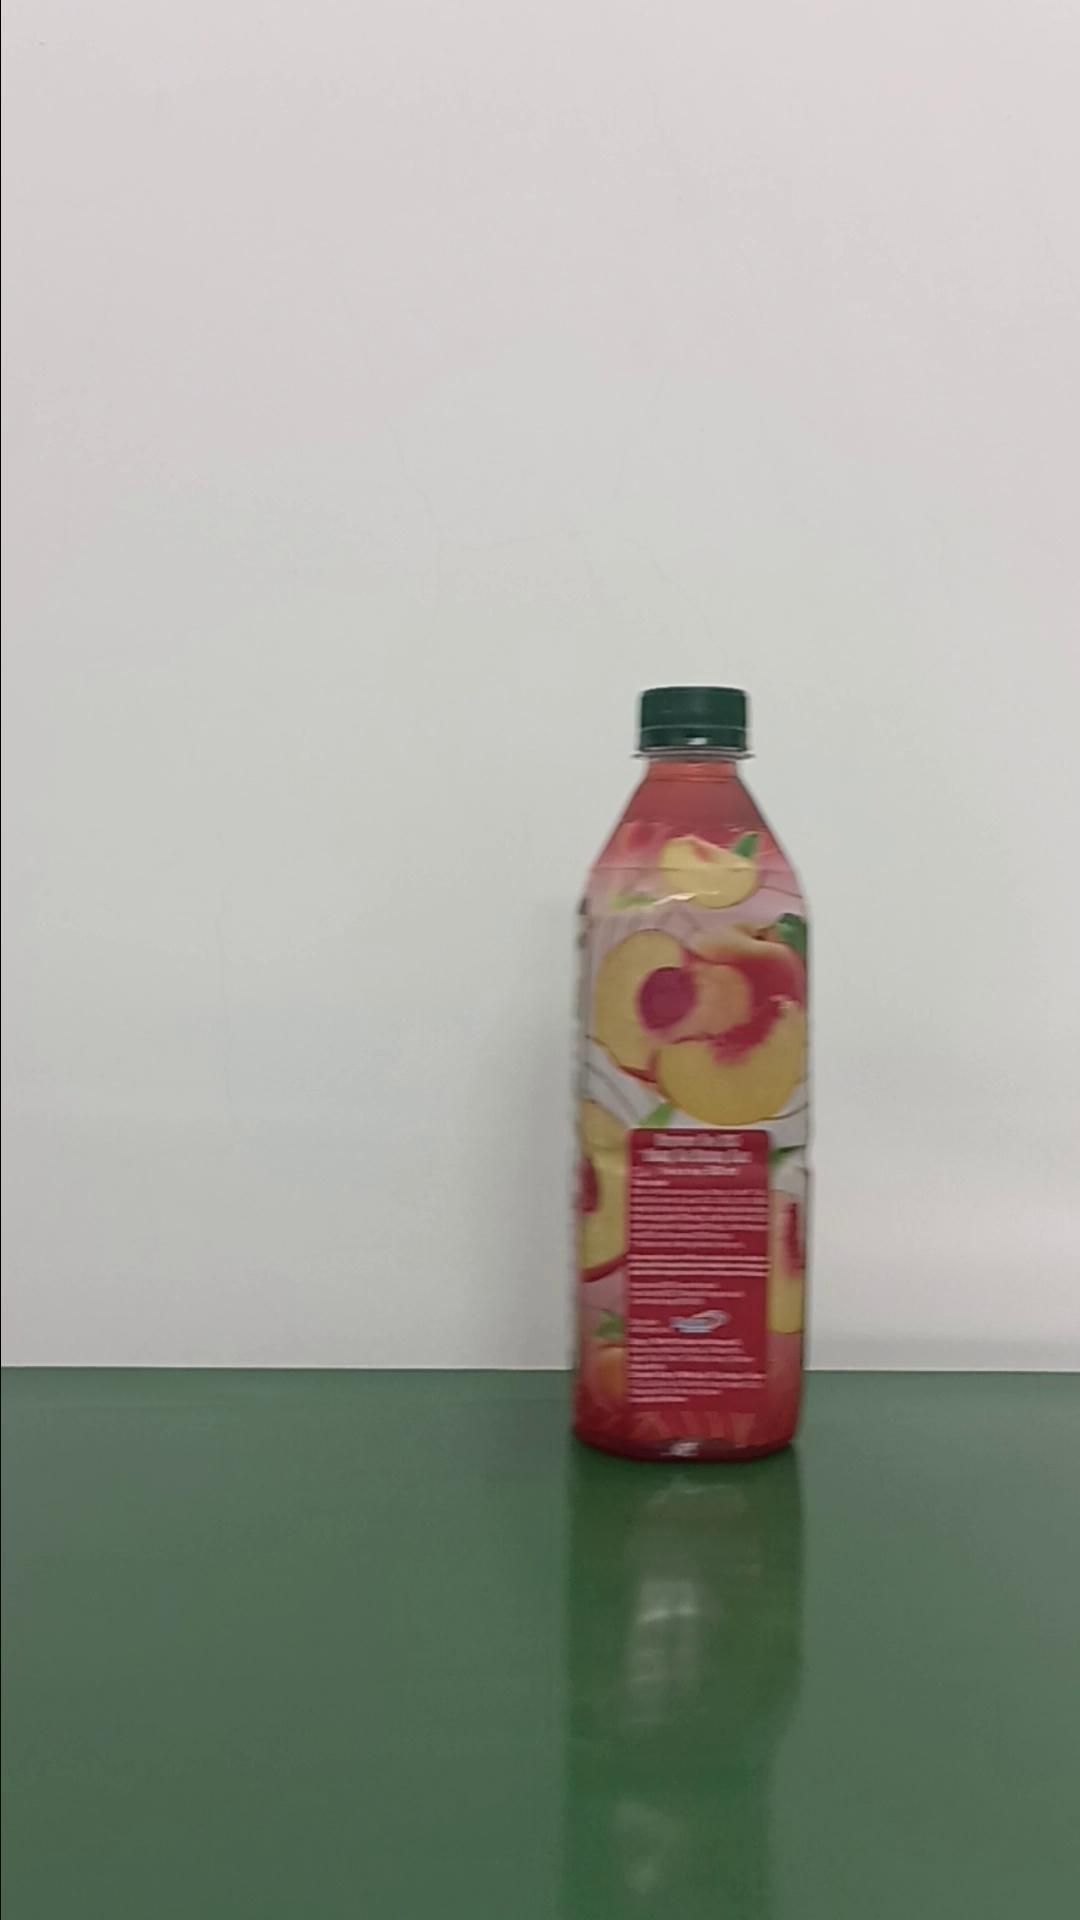khong loi: (567, 682, 814, 1462)
